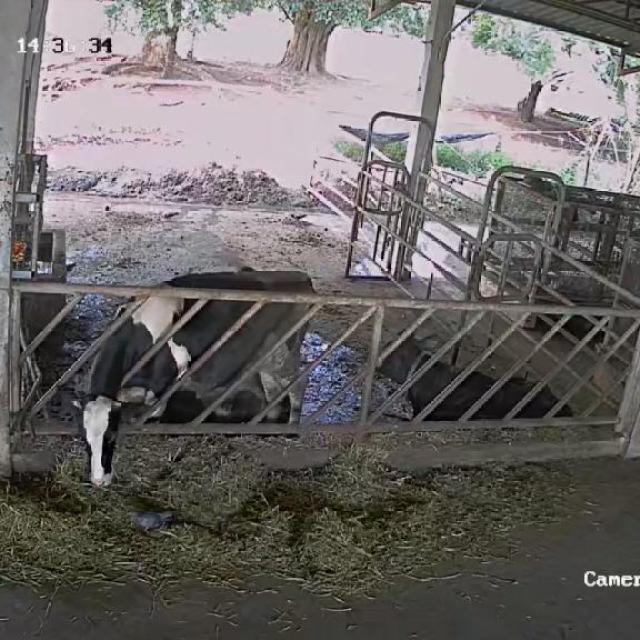feeding: (72, 268, 317, 486)
lying down: (370, 330, 570, 437)
